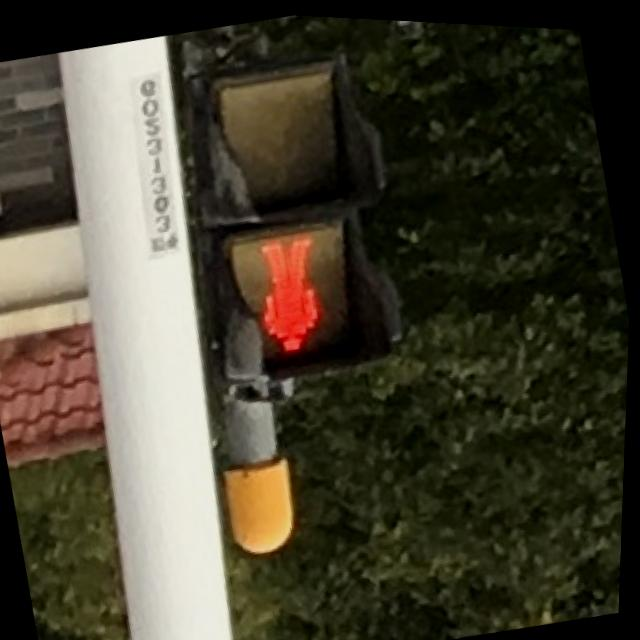red_light: (222, 214, 371, 378)
